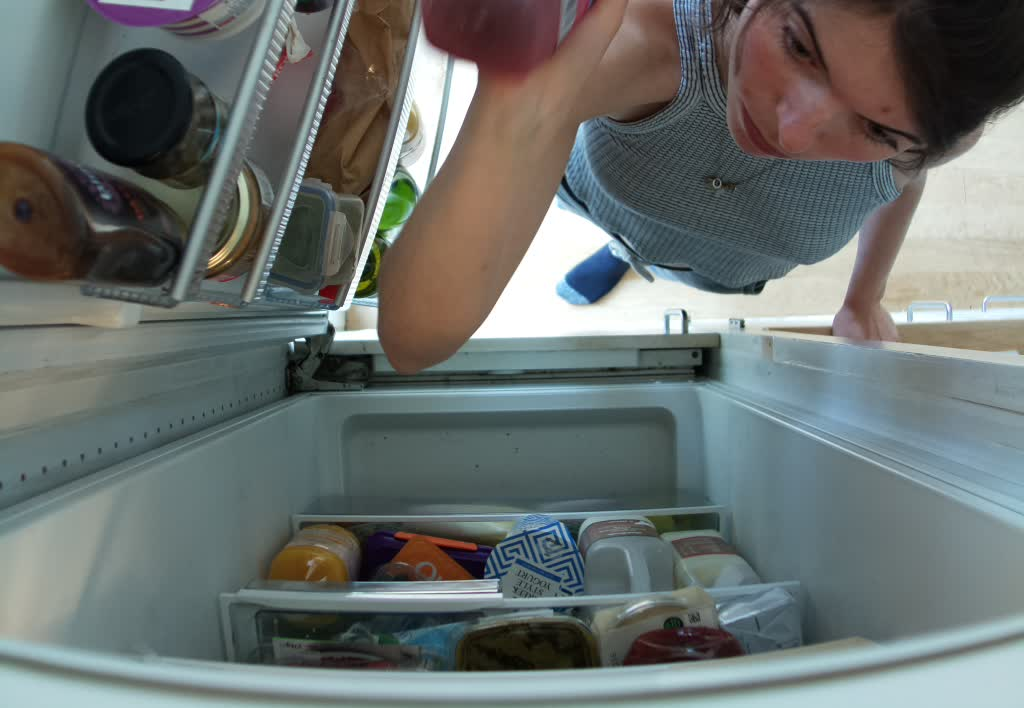juice: (422, 1, 605, 73)
